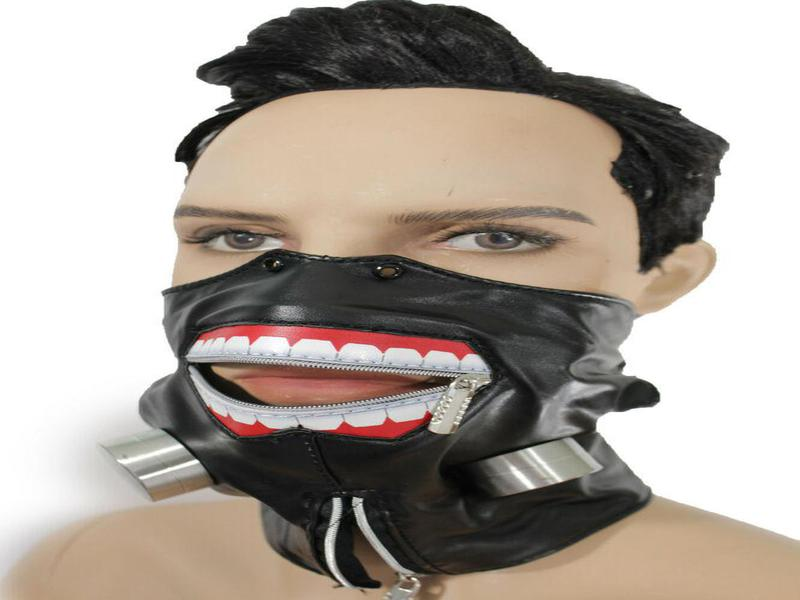with_mask: (83, 4, 726, 599)
